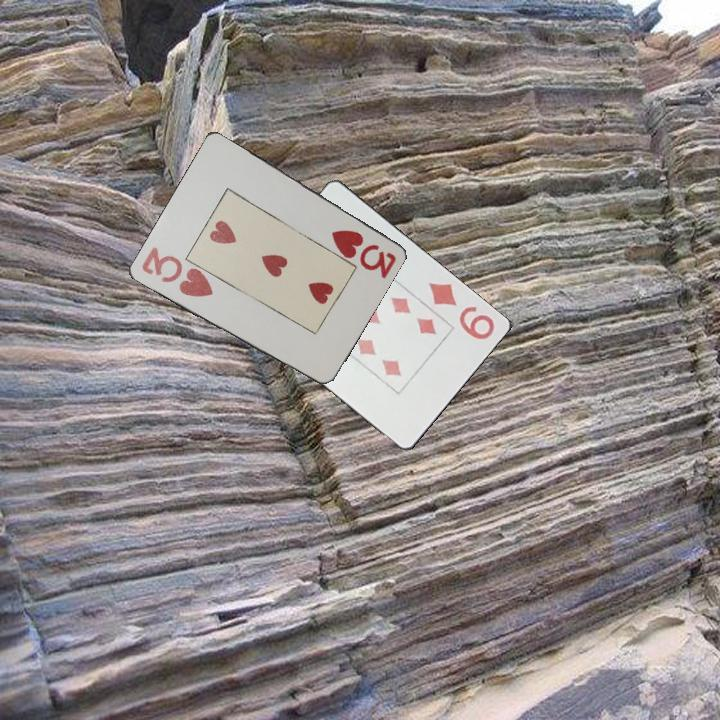3h: (137, 243, 216, 300), (327, 226, 399, 280)
9d: (425, 278, 498, 344)
